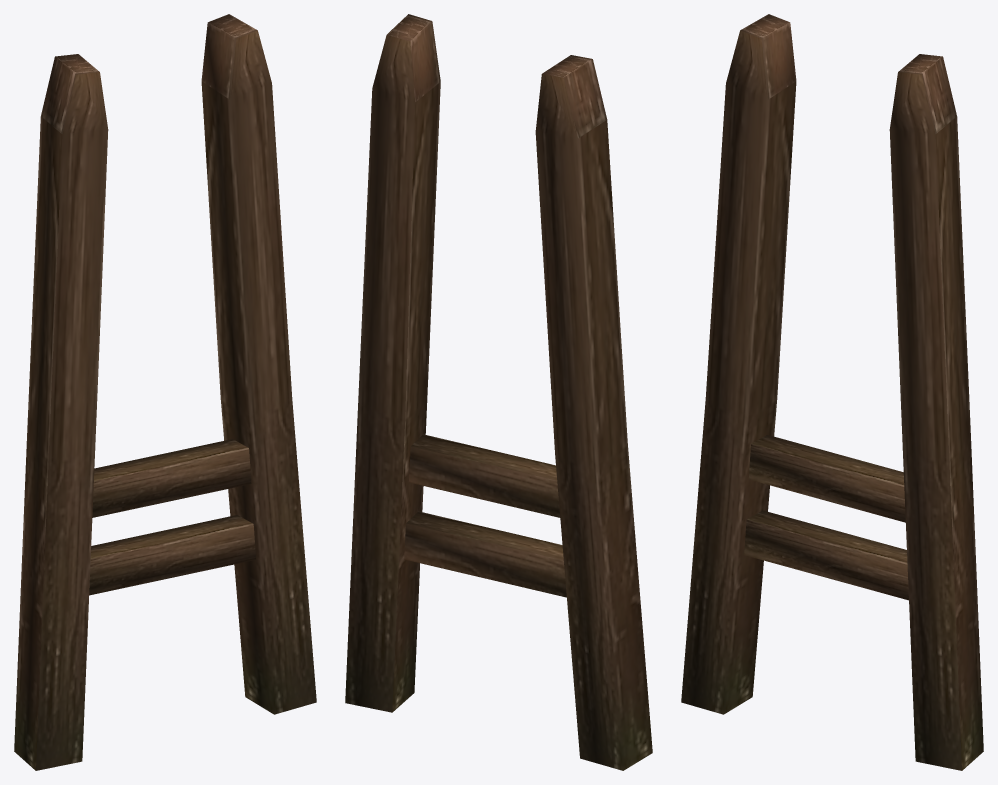
Rendered from C5_WaterWagon_Ladder.FBX.
The picture shows the model from 3 angles, left to right: view 1: azimuth 30°, elevation 25°; view 2: azimuth 150°, elevation 25°; view 3: azimuth 330°, elevation 25°; orthographic projection.
Parts seen in each view (by area): view 1: C5_WaterWagon_Ladder; view 2: C5_WaterWagon_Ladder; view 3: C5_WaterWagon_Ladder.
Boxes of the visible parts, left/top/right/bottom form: C5_WaterWagon_Ladder: left=14, top=14, right=316, bottom=770; C5_WaterWagon_Ladder: left=345, top=14, right=652, bottom=770; C5_WaterWagon_Ladder: left=681, top=14, right=983, bottom=770.
Size of the model in its own units: 48.02 by 111 by 10.73.
